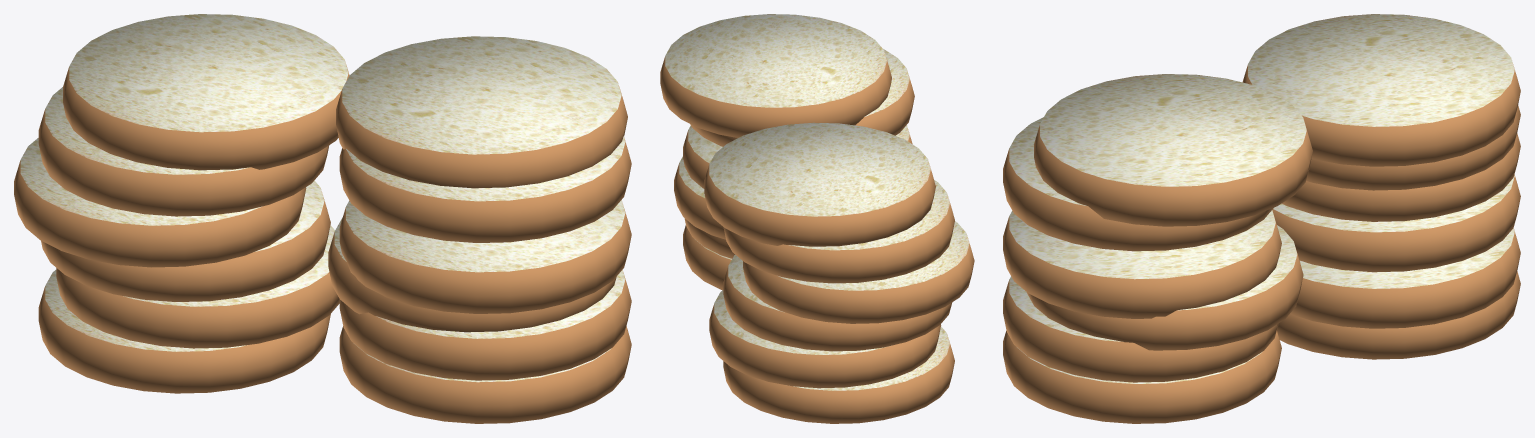
Rendered from bottomBreadTable.fbx.
3 views of the same model, side by side, from view 1: azimuth 30°, elevation 25°; view 2: azimuth 150°, elevation 25°; view 3: azimuth 270°, elevation 25° (orthographic). The views are drawn at different scales.
Visible parts, largest first — view 1: Cylinder.030; view 2: Cylinder.030; view 3: Cylinder.030.
Part boxes in pixels (<box>): Cylinder.030: <box>14,14,631,423</box>; Cylinder.030: <box>660,14,974,423</box>; Cylinder.030: <box>1003,14,1520,423</box>.
Size of the model in its own units: 33.33 by 18.56 by 33.57.
2 materials, 1 textured.
